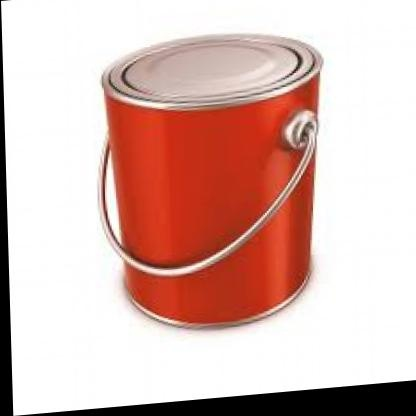trash: (99, 34, 321, 325)
